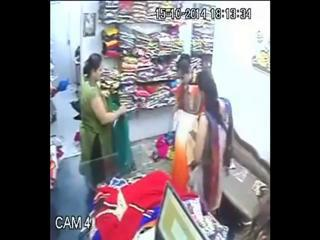Normal: (170, 54, 222, 200), (78, 53, 129, 194), (154, 183, 206, 240)
